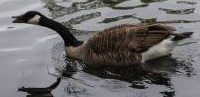goose: (9, 7, 196, 74)
